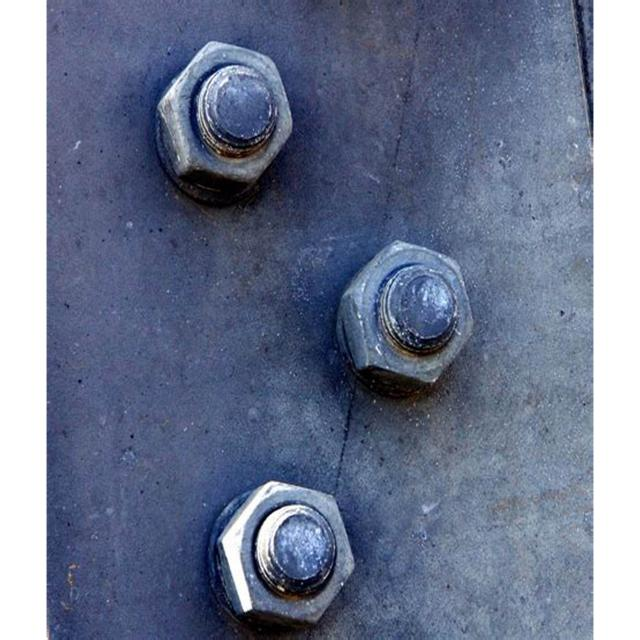bolt nut: (214, 479, 356, 630), (153, 42, 294, 194), (340, 240, 474, 388)
